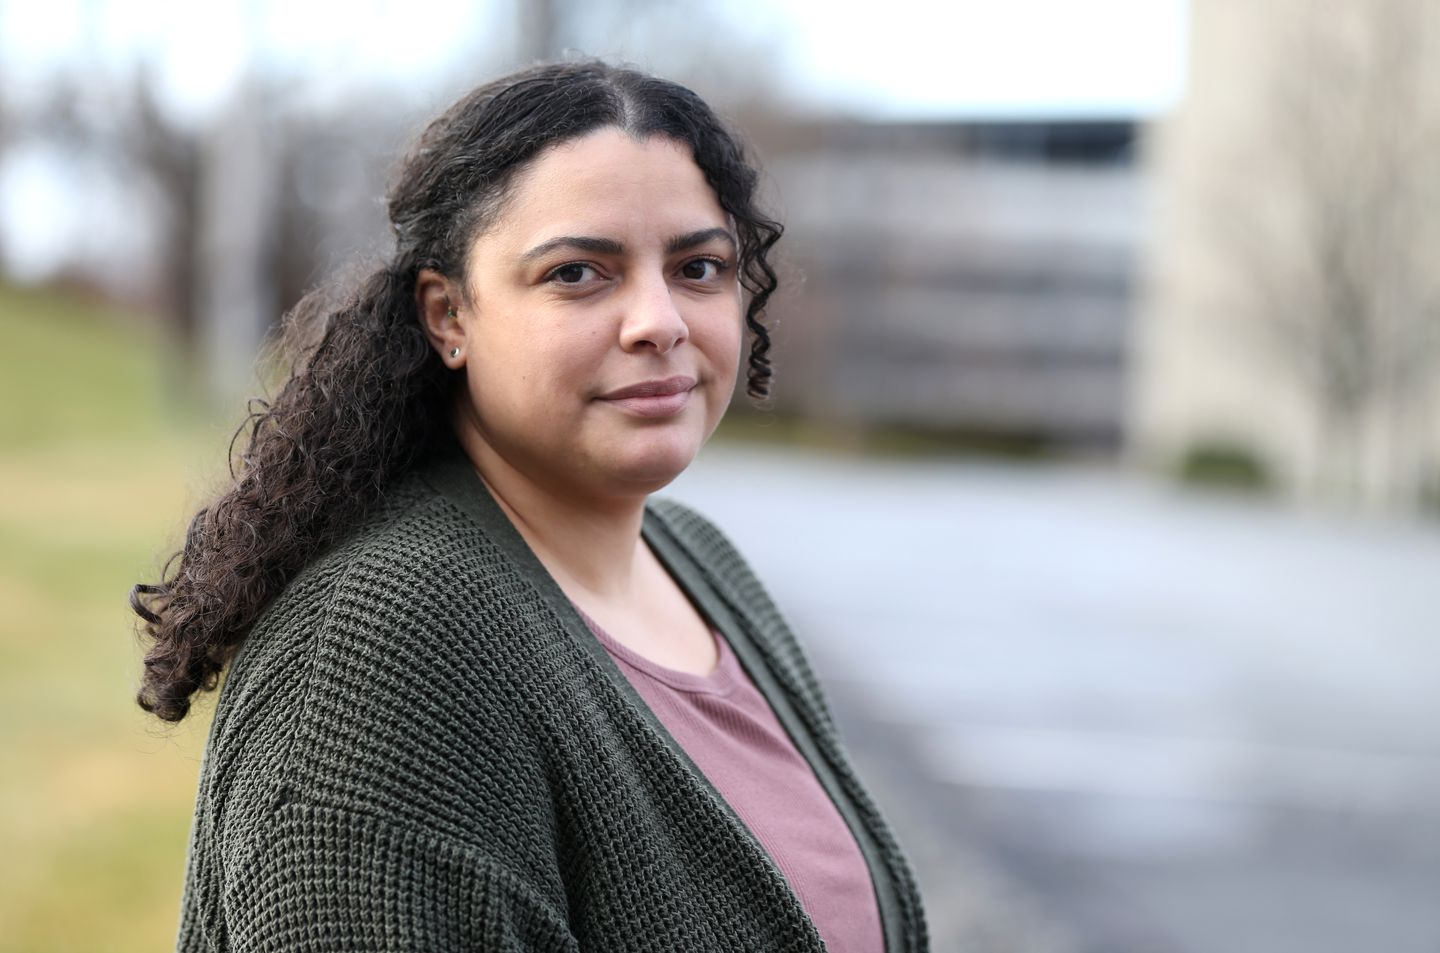person: (125, 55, 951, 953)
